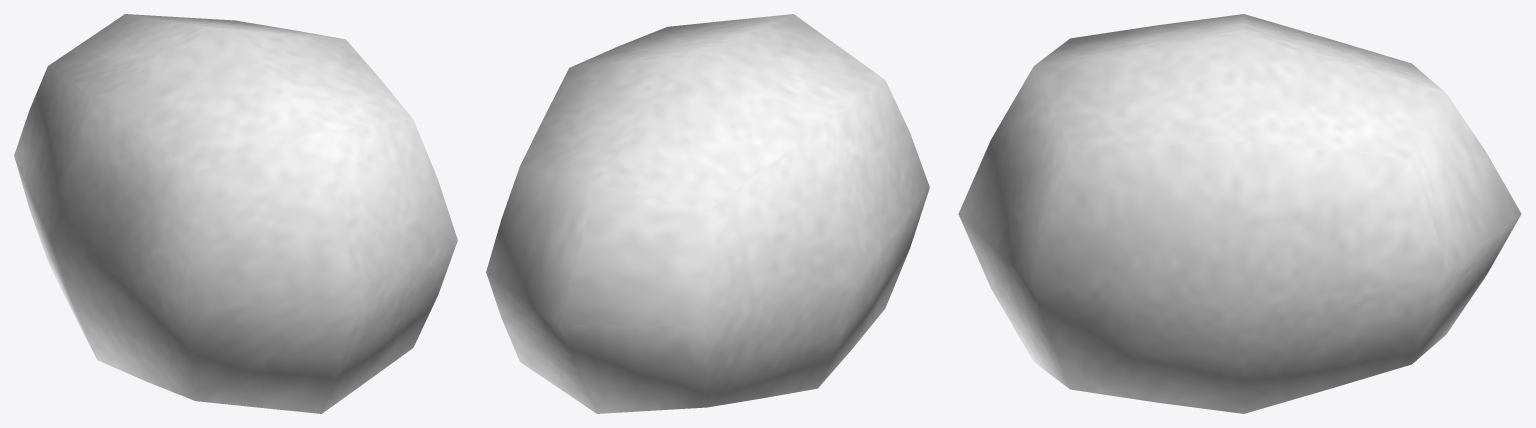
File: Egg_Uncooked.fbx
3 renders of one model, left to right at view 1: azimuth 30°, elevation 25°; view 2: azimuth 150°, elevation 25°; view 3: azimuth 270°, elevation 25°, orthographic. The views are drawn at different scales.
Parts seen in each view (by area): view 1: Egg_Uncooked; view 2: Egg_Uncooked; view 3: Egg_Uncooked.
Part boxes in pixels (box(x1,y1,x2,y2)): Egg_Uncooked: box(14, 14, 457, 413); Egg_Uncooked: box(486, 14, 929, 413); Egg_Uncooked: box(958, 14, 1521, 413).
Size of the model in its own units: 20.86 by 19.96 by 28.4.
